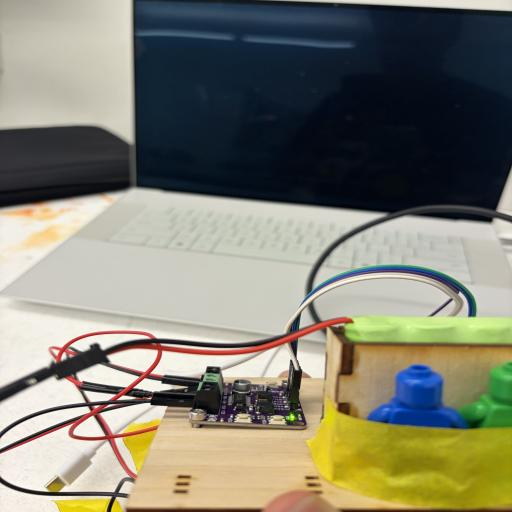Blue-Lego: (367, 364, 467, 428)
Green-Lego: (459, 361, 512, 429)
